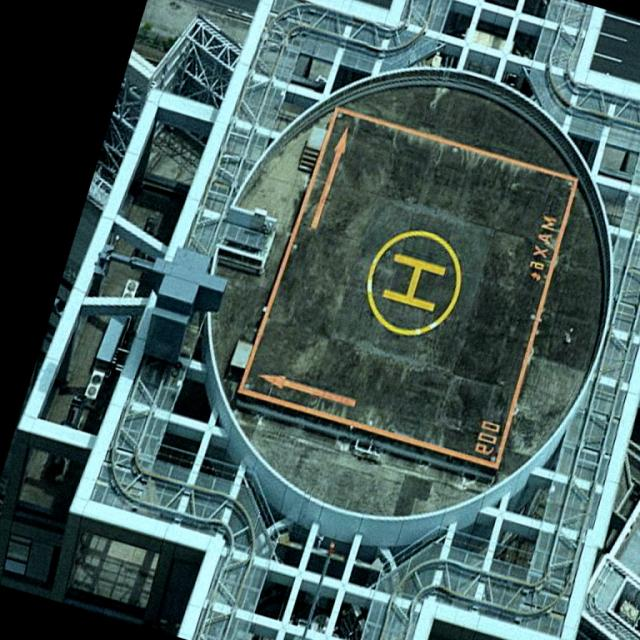helipad: (362, 227, 466, 338)
